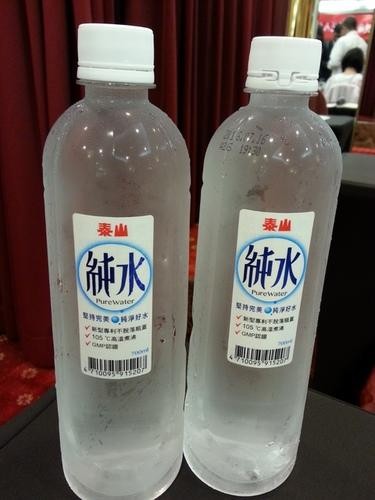bottle: (175, 0, 350, 250), (39, 0, 195, 250)
